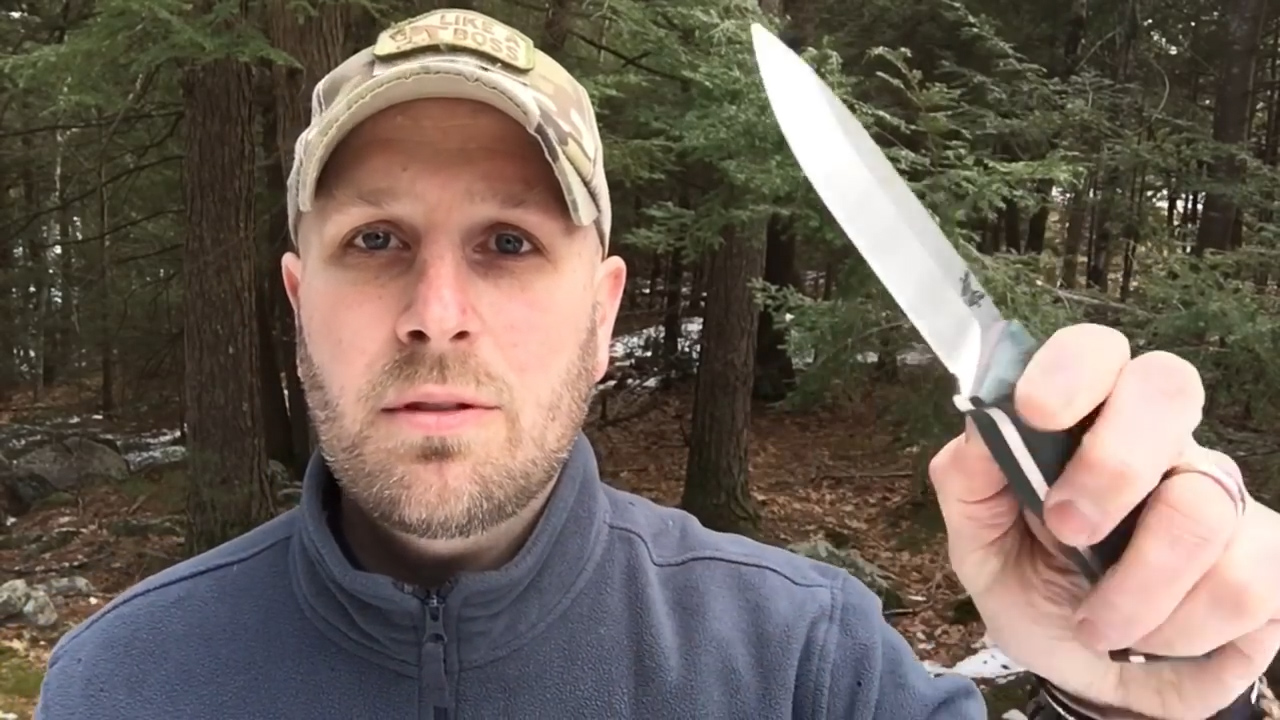knife: (739, 13, 1174, 554)
